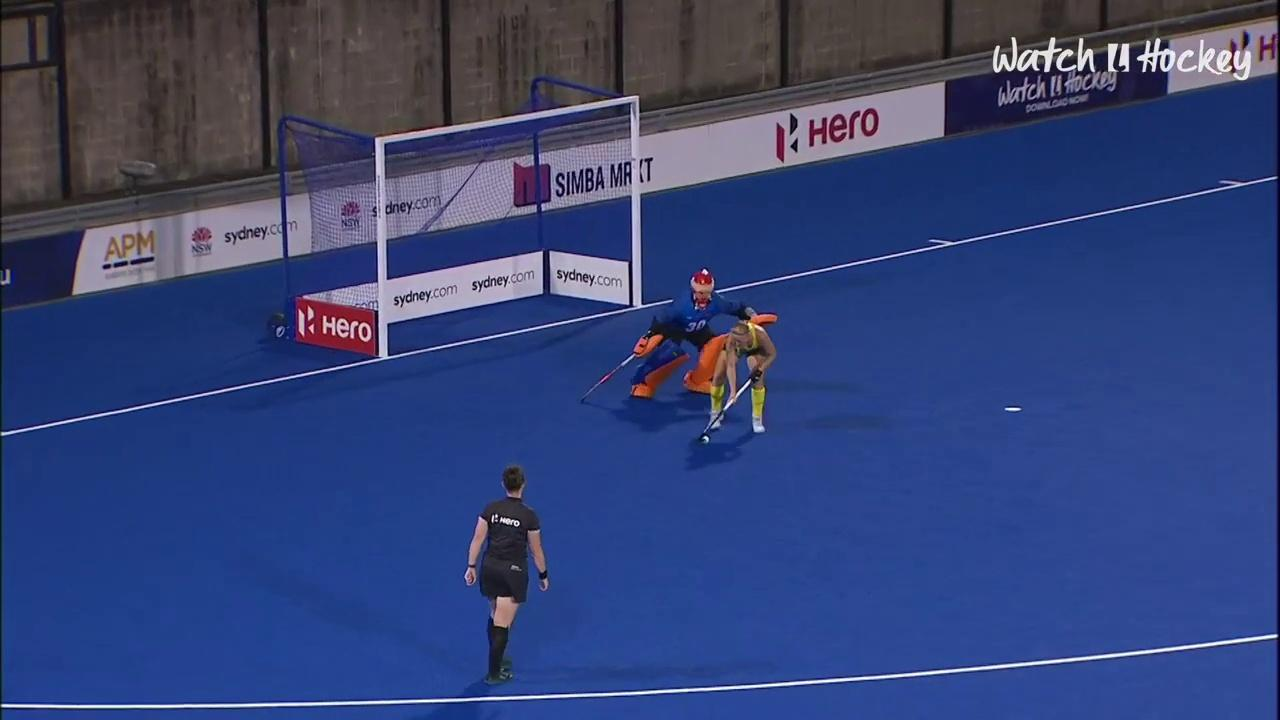ball: (699, 427, 713, 450)
